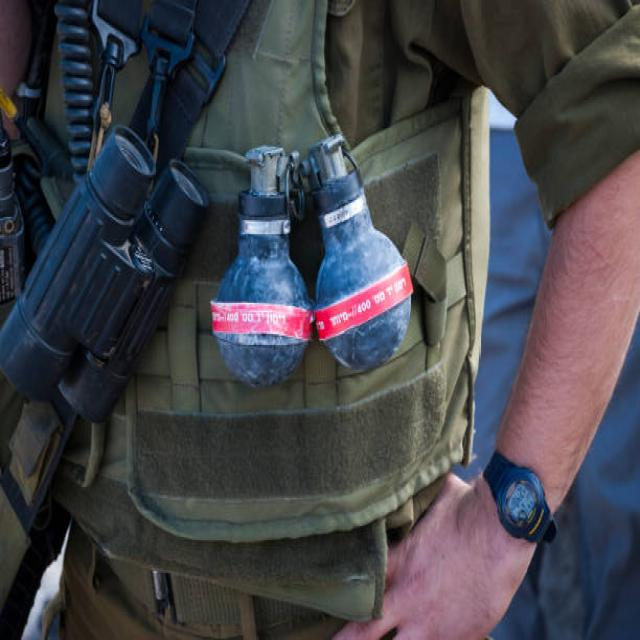grenade: (209, 134, 316, 392), (307, 132, 417, 376)
